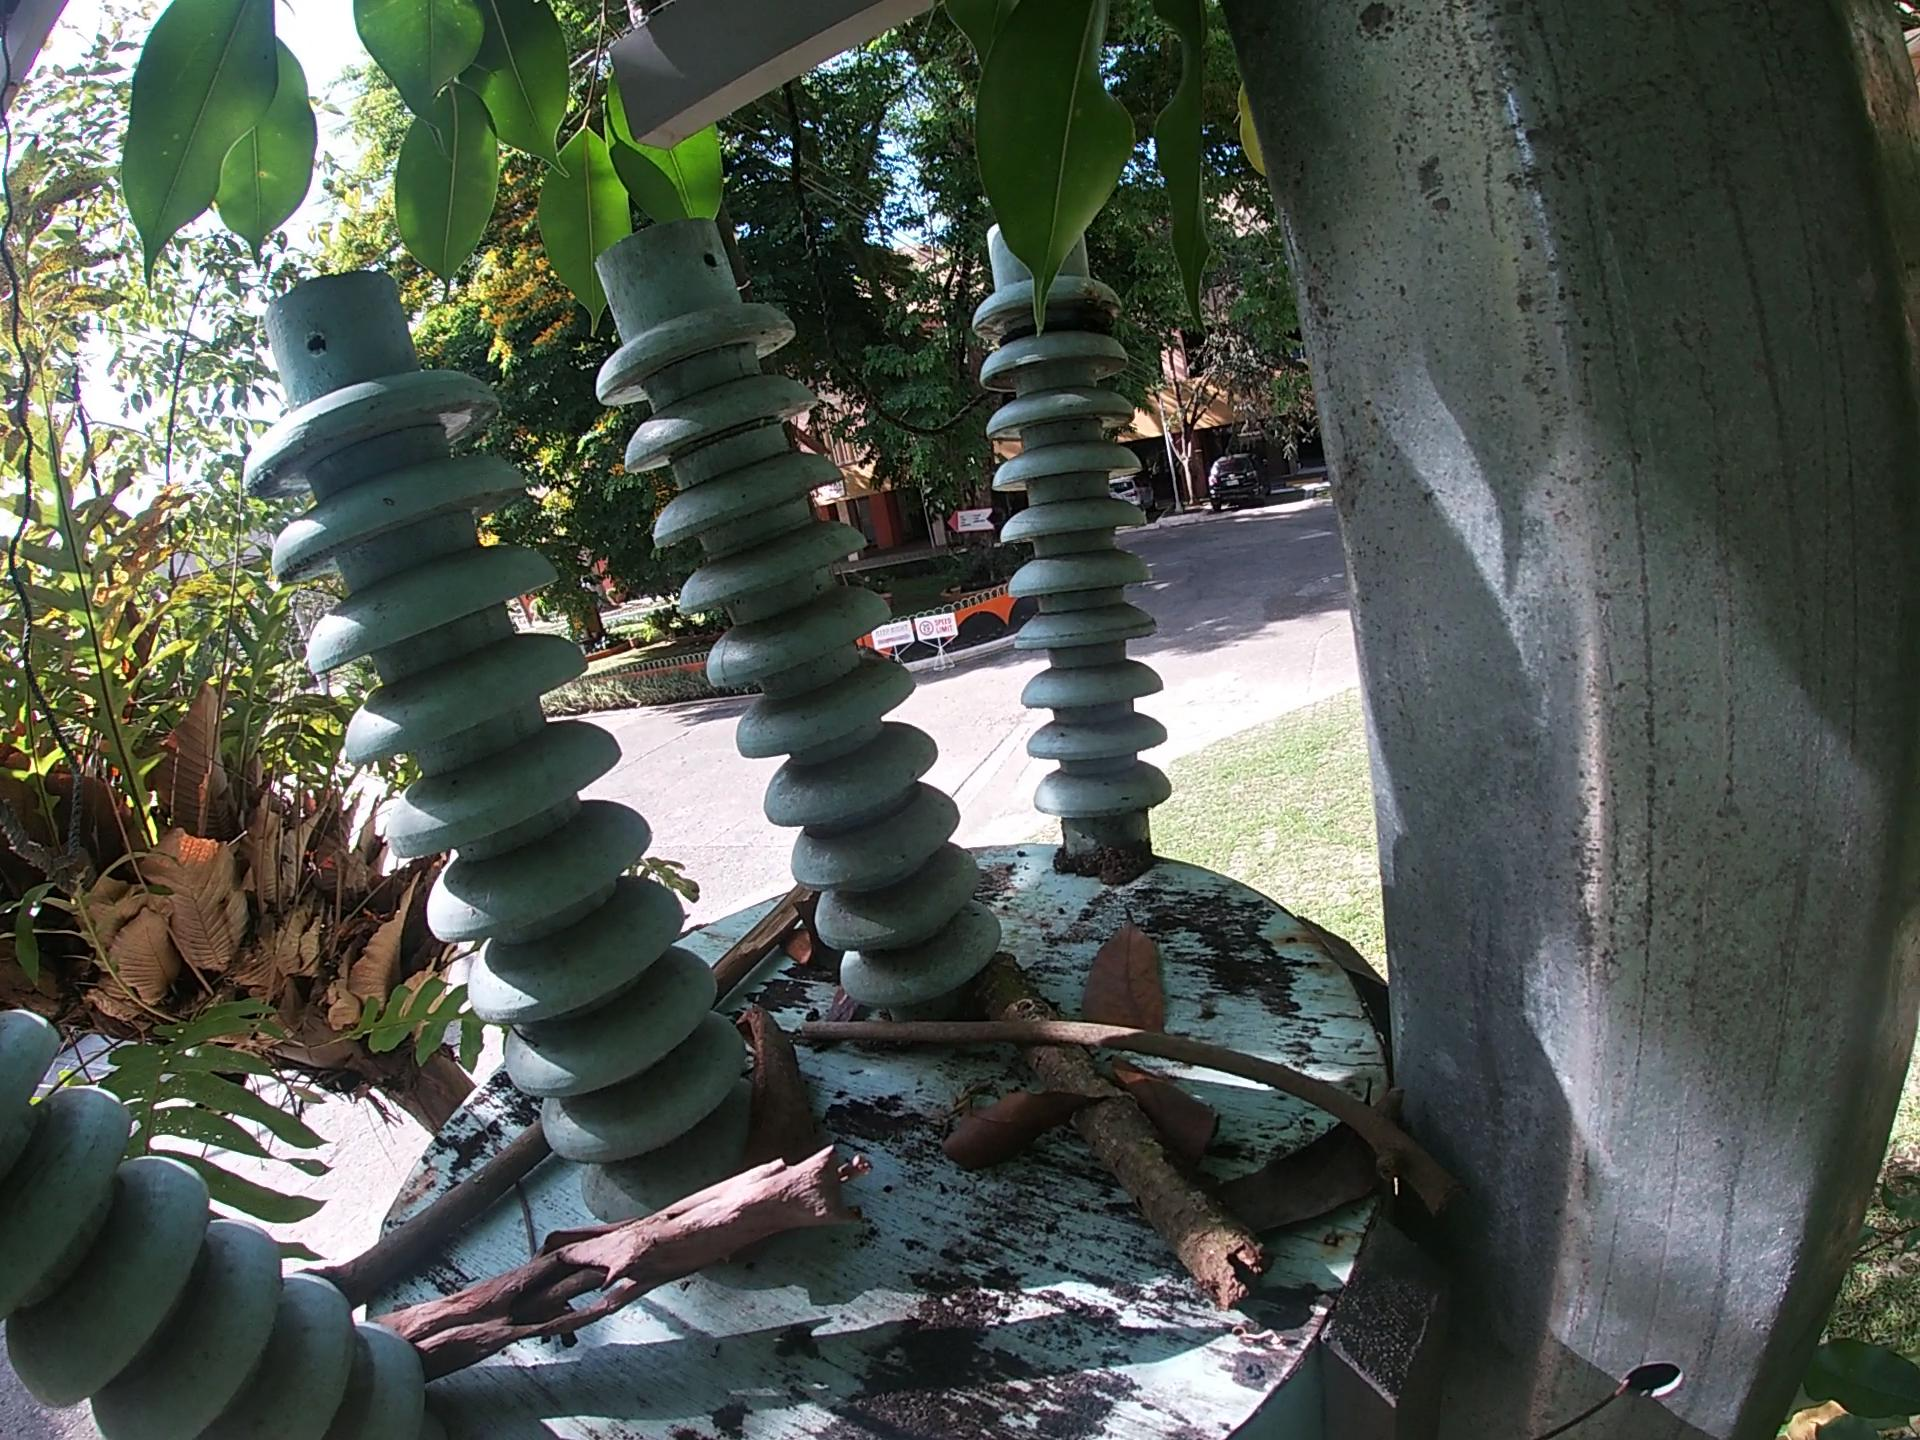leaf: (1217, 1078, 1383, 1240), (931, 1085, 1111, 1172), (1107, 1045, 1222, 1175), (1070, 908, 1178, 1030)
mahogany fruit: (735, 998, 815, 1184), (780, 883, 841, 968)
tree branch: (789, 1007, 1476, 1227), (370, 1133, 883, 1379), (968, 945, 1274, 1321), (295, 1116, 559, 1310), (705, 877, 815, 1007)
